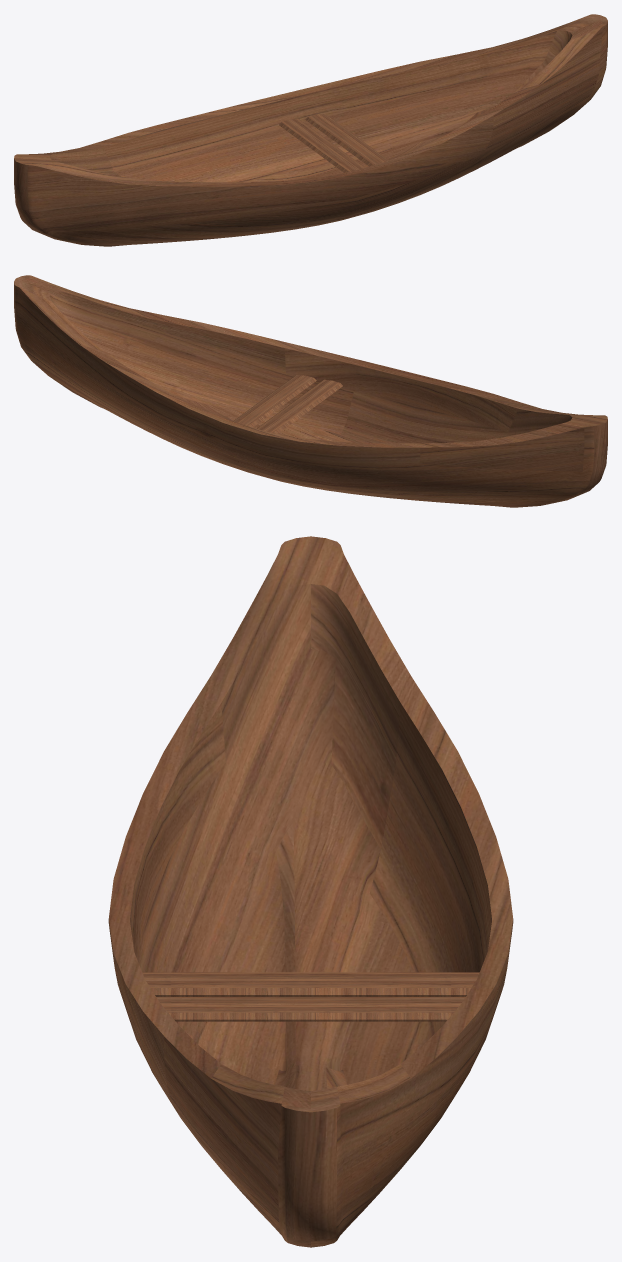
The model's file is Viking-Ruderboot.fbx.
The picture shows the model from 3 angles, top to bottom: view 1: azimuth 30°, elevation 25°; view 2: azimuth 150°, elevation 25°; view 3: azimuth 270°, elevation 25°; orthographic projection. The views are drawn at different scales.
Parts seen in each view (by area): view 1: Circle; view 2: Circle; view 3: Circle.
Boxes of the visible parts, x1=… form: Circle: x1=14, y1=14, x2=607, y2=246; Circle: x1=14, y1=275, x2=607, y2=507; Circle: x1=108, y1=536, x2=513, y2=1247.
Size of the model in its own units: 973 by 187 by 289.
